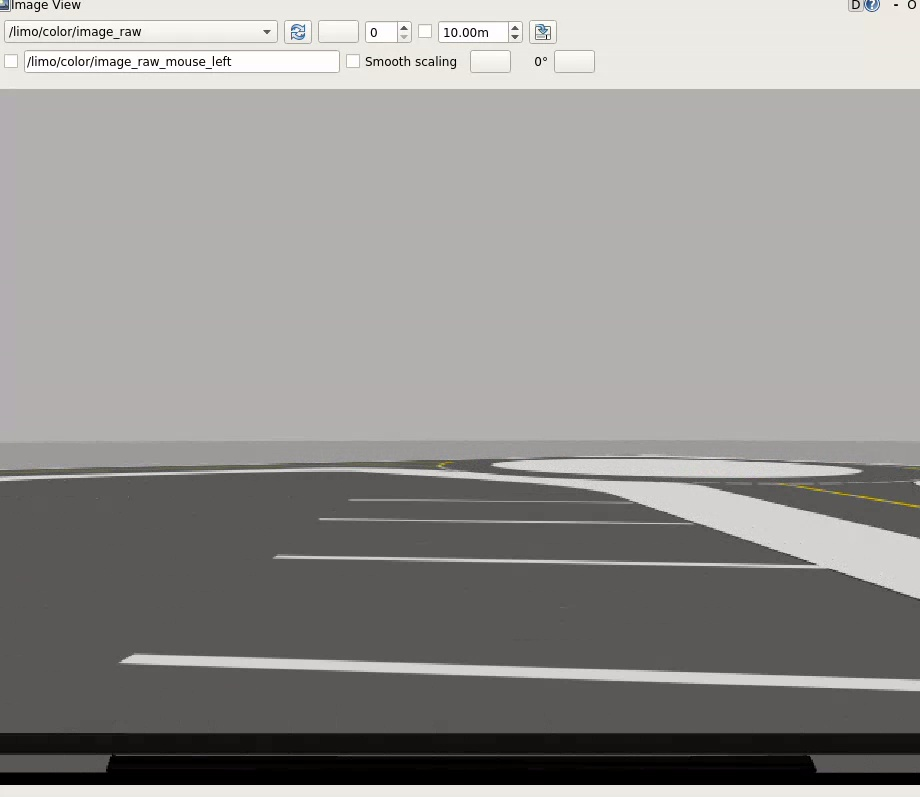Dashed: (725, 481, 753, 486), (756, 482, 786, 486), (790, 480, 815, 484), (820, 482, 843, 485), (696, 481, 718, 484), (849, 481, 867, 484), (872, 481, 888, 484), (891, 481, 912, 483)
Parking: (132, 555, 919, 685), (275, 518, 823, 567), (319, 499, 692, 523)
Solid: (784, 484, 919, 508), (437, 462, 455, 467)
Street: (0, 472, 919, 731), (310, 460, 919, 537), (3, 463, 308, 474)
